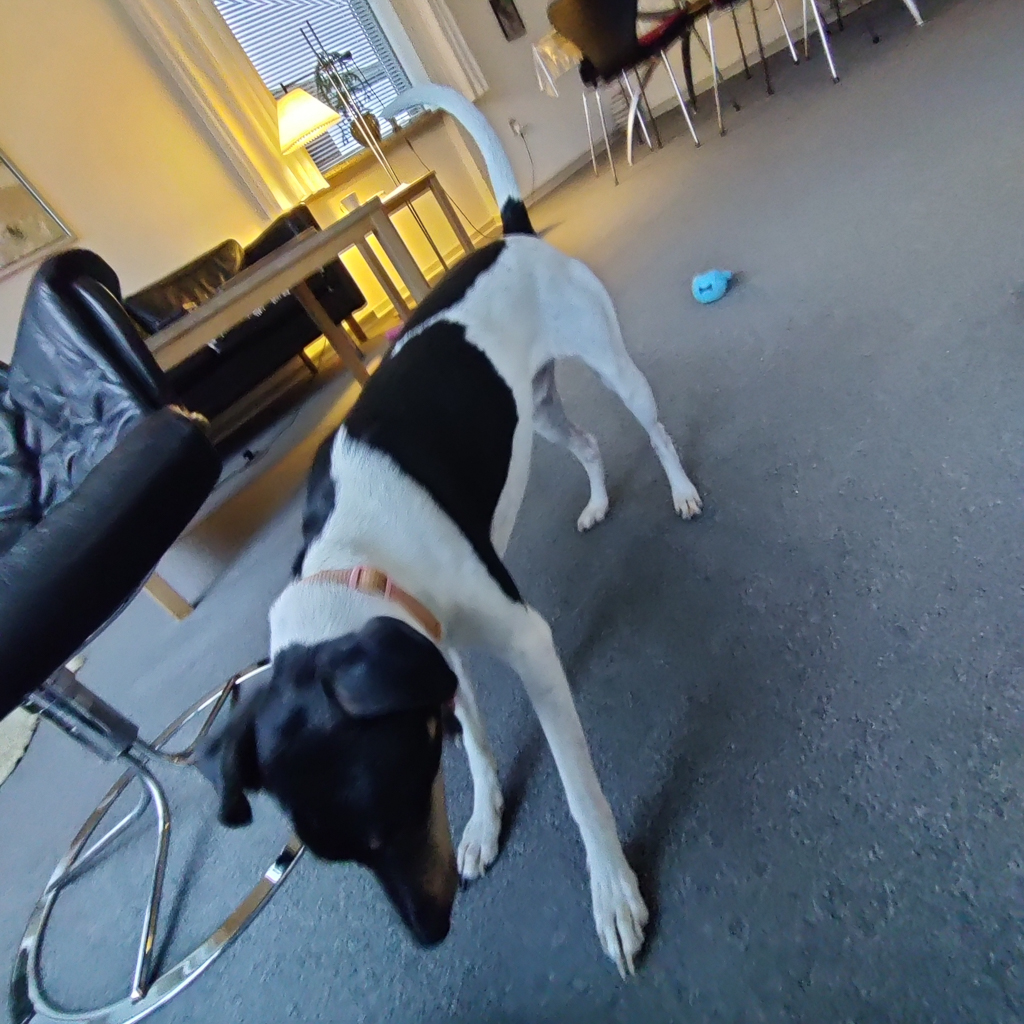Dog: (158, 60, 724, 987)
